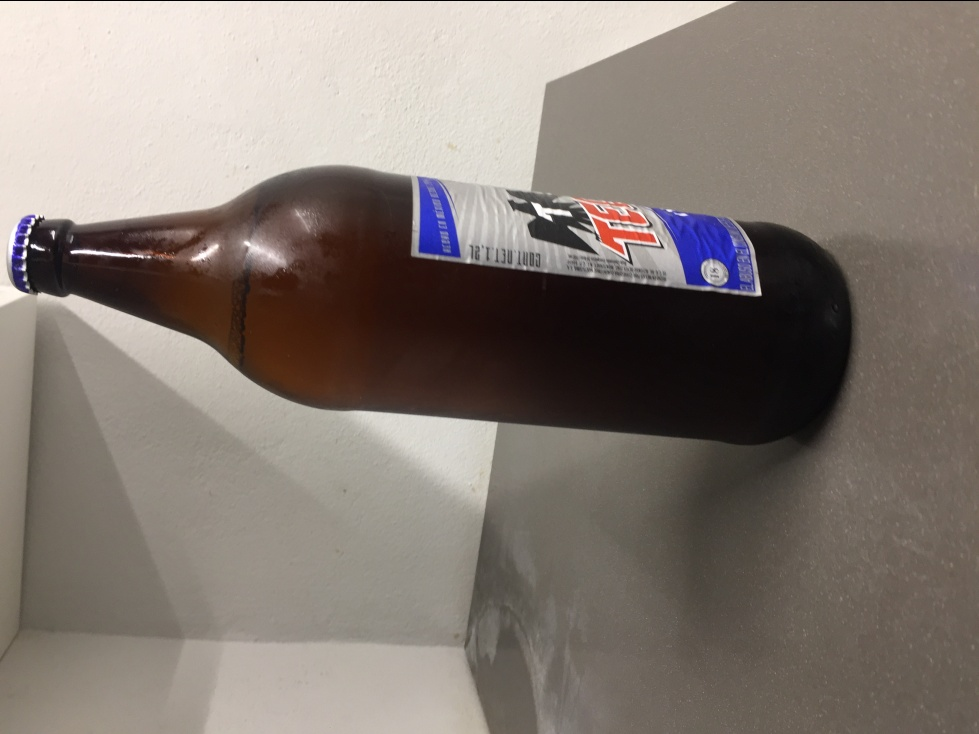tecateC: (14, 162, 856, 447)
